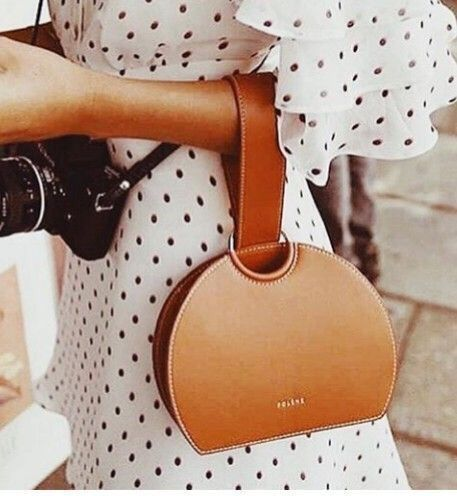cuero: (149, 71, 397, 457)
